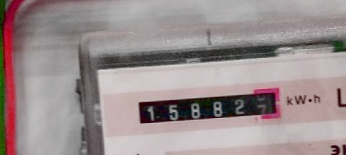1: (145, 104, 156, 122)
2: (233, 97, 244, 115)
5: (166, 103, 178, 120)
7: (255, 102, 266, 116)
8: (189, 101, 200, 118), (212, 100, 222, 116)
screen: (130, 84, 287, 129)
